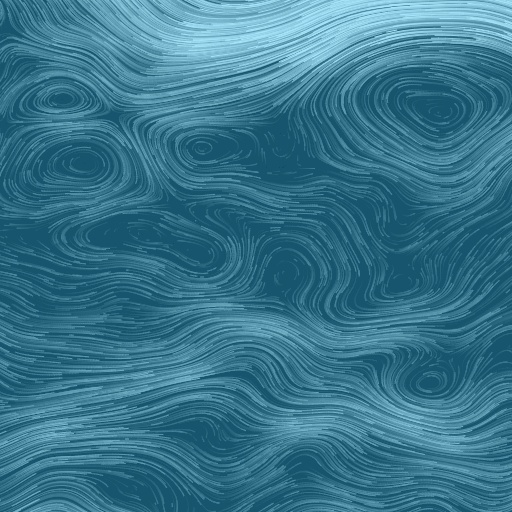eddy: (357, 44, 509, 167), (32, 129, 137, 199), (114, 213, 230, 272), (17, 76, 107, 121), (174, 130, 235, 168), (406, 363, 458, 402), (273, 256, 299, 290)
